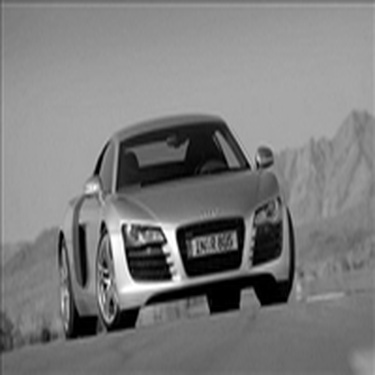car: (34, 104, 301, 347)
